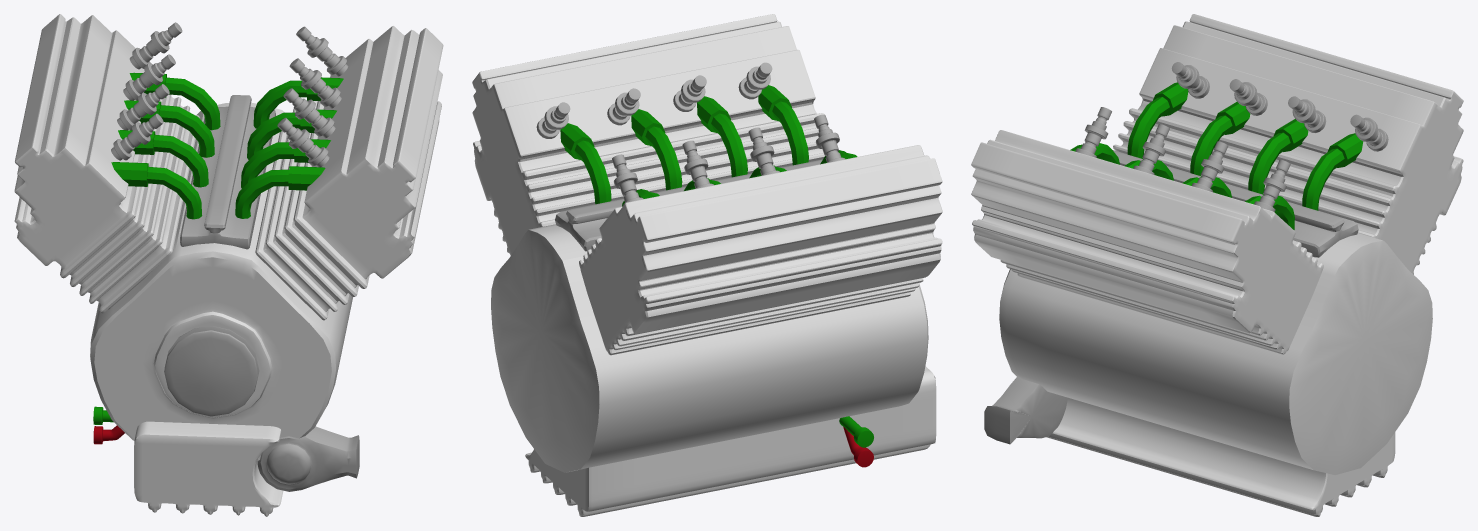
The model's file is engine-2.glb.
3 views of the same model, side by side, from view 1: azimuth 30°, elevation 25°; view 2: azimuth 150°, elevation 25°; view 3: azimuth 270°, elevation 25° (orthographic). The views are drawn at different scales.
Parts seen in each view (by area): view 1: Circle.056_0; view 2: Circle.056_0; view 3: Circle.056_0.
Boxes of the visible parts, x1,y1,x2,y2 form: Circle.056_0: [14, 14, 443, 516]; Circle.056_0: [472, 14, 942, 516]; Circle.056_0: [971, 14, 1463, 516].
Bounding box in the file's own units: 0.7261 × 0.548 × 0.6961.
